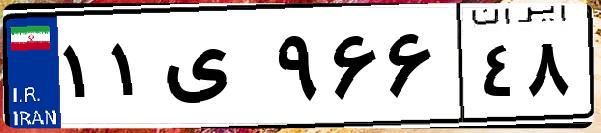1: (57, 26, 110, 100), (110, 28, 158, 98)
4: (475, 38, 525, 113)
6: (385, 28, 445, 110), (330, 28, 385, 110)
8: (525, 38, 570, 115)
9: (270, 28, 330, 110)
ی: (158, 20, 270, 120)
